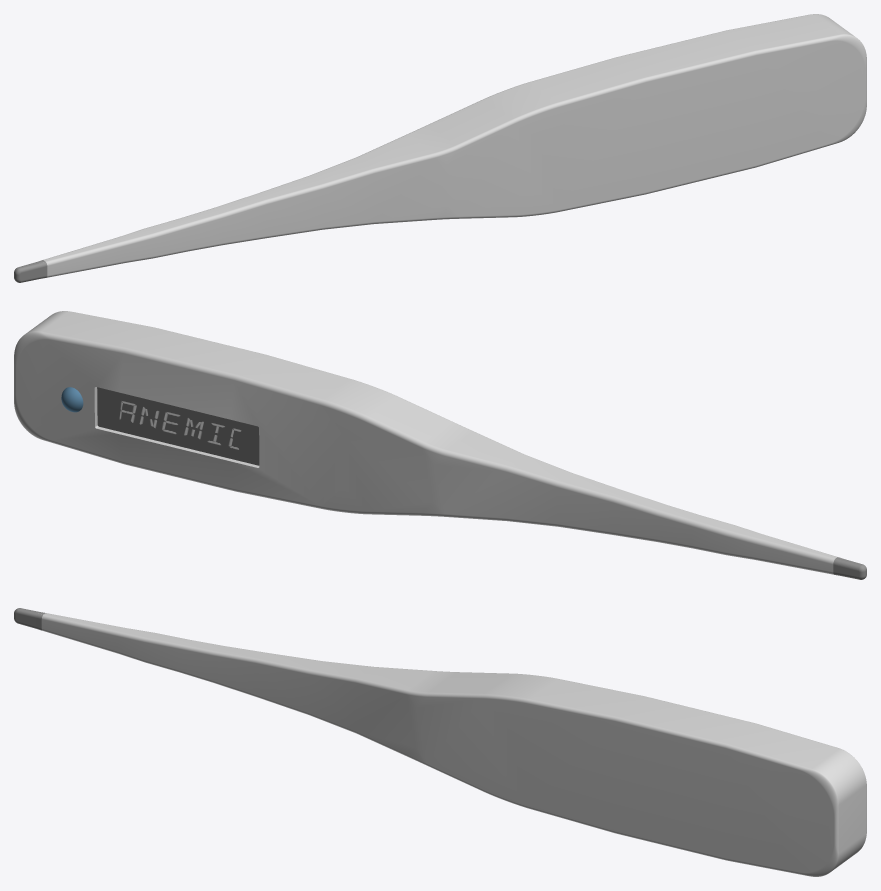
The model's file is project-07.glb.
3 renders of one model, top to bottom at view 1: azimuth 30°, elevation 25°; view 2: azimuth 150°, elevation 25°; view 3: azimuth 330°, elevation 25°, orthographic.
Visible parts, largest first — view 1: body, tip; view 2: body, screen, tip; view 3: body.
Boxes of the visible parts, x1,y1,x2,y2 form: body: (43,14,866,277); tip: (14,260,47,282); body: (14,311,837,574); screen: (97,387,259,465); tip: (833,557,866,579); body: (38,613,866,876).
Bounding box in the file's own units: 36.19 × 4.82 × 2.93.
4 materials, 1 textured.
